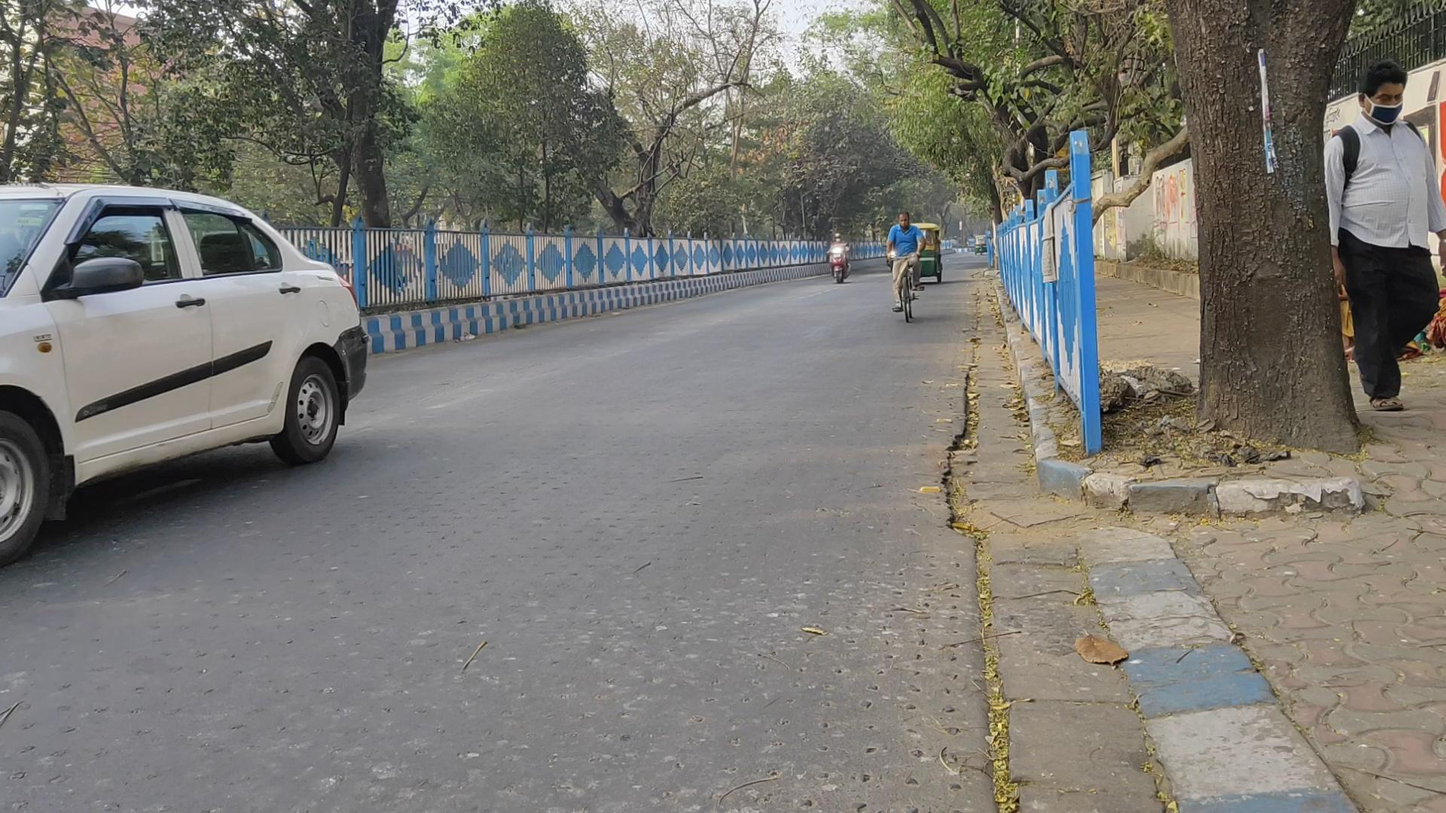Auto: (892, 224, 944, 286)
bike: (886, 212, 927, 322), (827, 232, 853, 285)
car: (1, 181, 369, 573)
